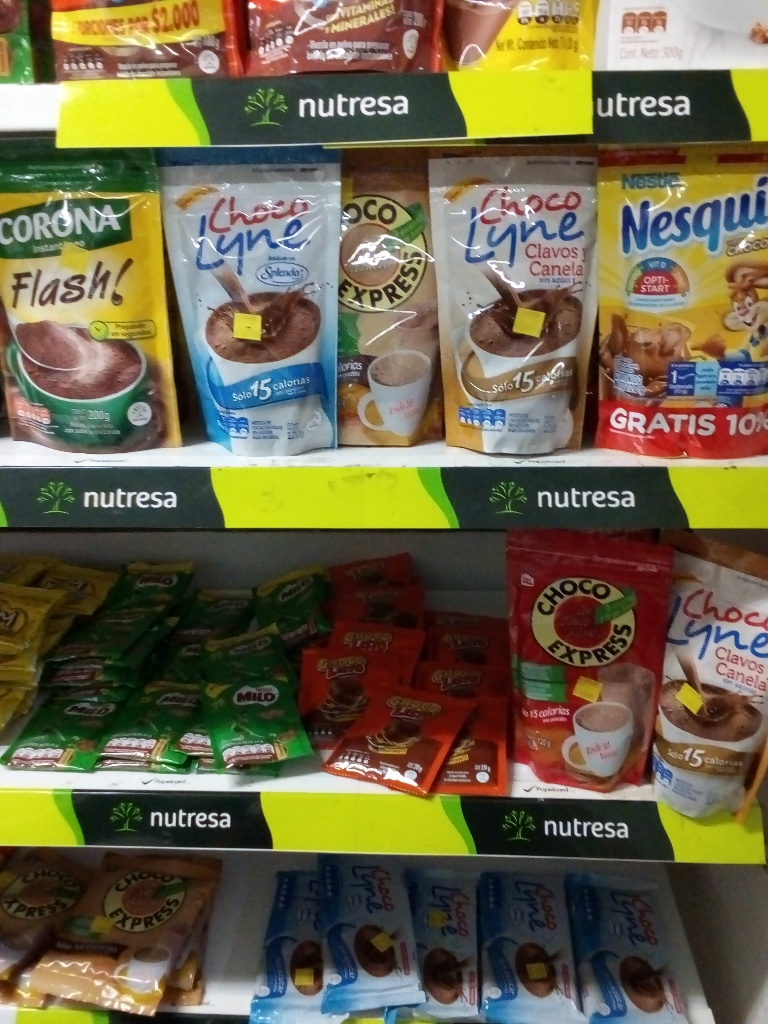COL0170103SOB02000: (333, 684, 465, 792)
